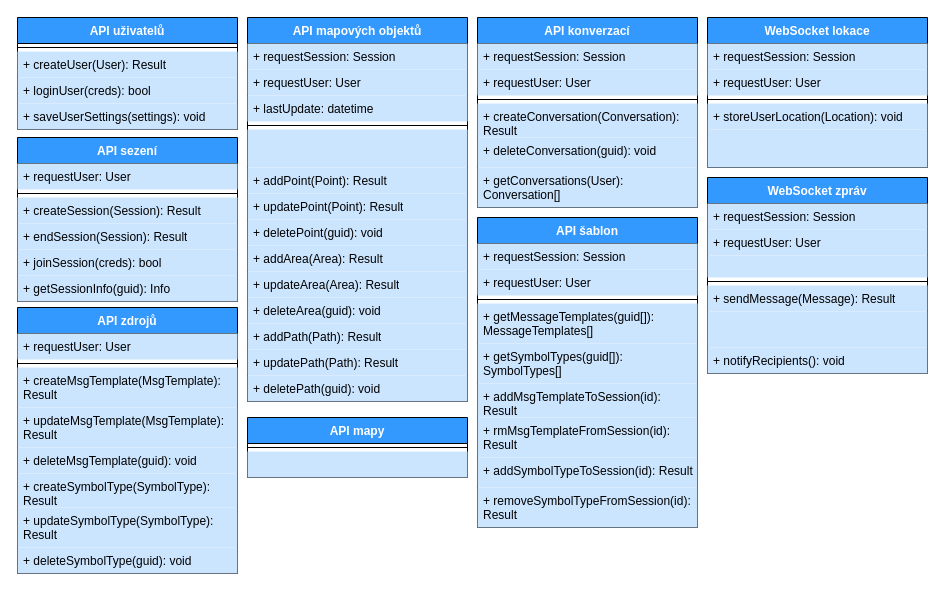
Some shapes in this 945 by 594 pixel diagram are drawn without their labels. The shapes that lost their labels are listed below. From the top down, each one's centre as x and y in pixels, then its label:
At (x=357, y=148): "+ getMapObjects(datetime): MapObjects[]".
At (x=817, y=148): "+ getUsersLocations(datetime): UserLocations[]".
At (x=817, y=266): "+ requestConversation: Conversation".
At (x=817, y=329): "+ getMessages(Conversation): Message[]".
At (x=357, y=464): "+ getTile(Map, Filter): Tile[]".
